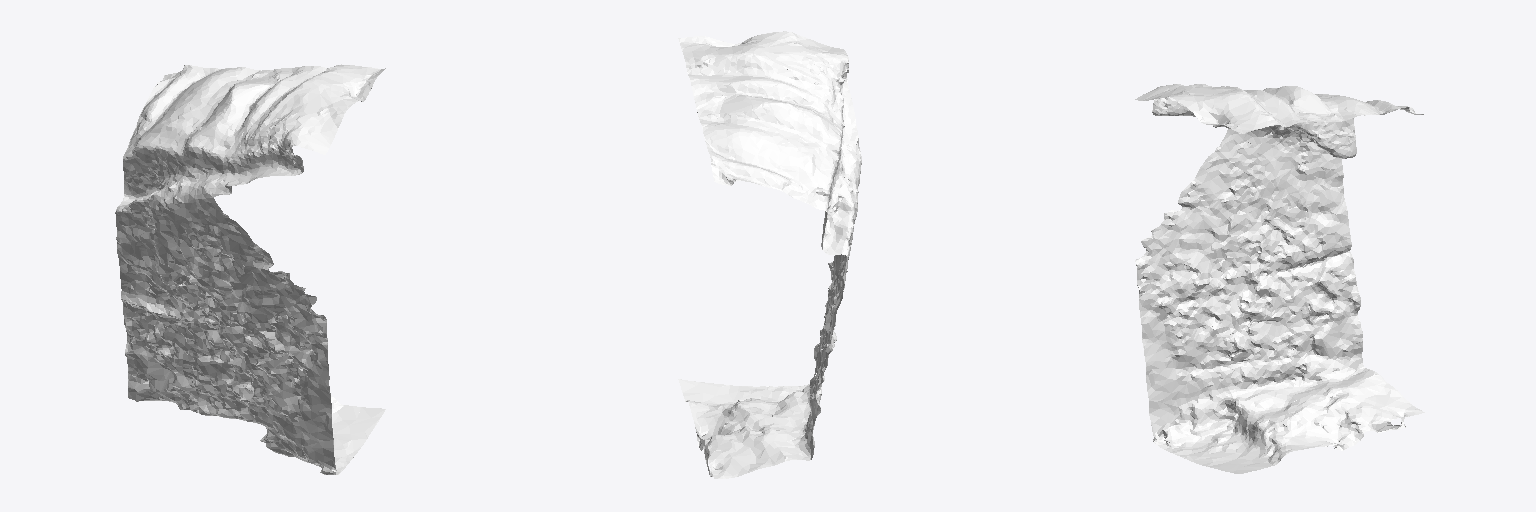
The model's file is tile_4_1.obj.
3 renders of one model, left to right at view 1: azimuth 30°, elevation 25°; view 2: azimuth 150°, elevation 25°; view 3: azimuth 270°, elevation 25°, orthographic.
Visible parts, largest first — view 1: texture_0; view 2: texture_0; view 3: texture_0.
Boxes of the visible parts, <box> form: texture_0: <box>115,64,385,474</box>; texture_0: <box>678,31,861,478</box>; texture_0: <box>1135,84,1424,473</box>.
Size of the model in its own units: 0.381 by 0.5991 by 0.436.